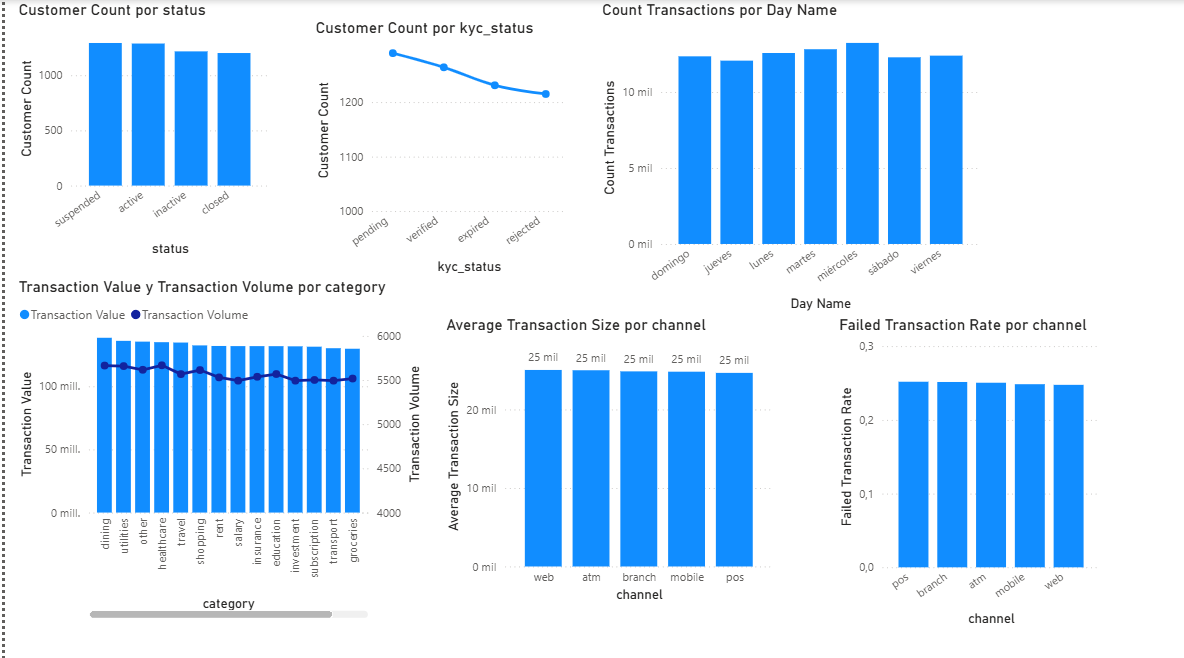

What the dashboard file says about the page in this screenshot:
{"tool":"powerbi","page":{"name":"Página 3","canvas":[1280,720],"ordinal":2},"visuals":[{"type":"clusteredColumnChart","fields":{"Y":["gold dim_customer.Customer Count"],"Category":["gold dim_customer.status"]},"box":[10,0,280,280],"z":0},{"type":"lineChart","fields":{"Y":["gold dim_customer.Customer Count"],"Category":["gold dim_customer.kyc_status"]},"box":[330.3,19.4,280.1,280.1],"z":1000},{"type":"lineStackedColumnComboChart","fields":{"Y":["gold fact_transactions.Transaction Value"],"Y2":["gold fact_transactions.Transaction Volume"],"Category":["gold fact_transactions.category"]},"box":[9.7,299.6,443.7,372.4],"z":2000},{"type":"clusteredColumnChart","fields":{"Y":["gold fact_transactions.Count Transactions"],"Category":["gold dim_dates.Dates Hierarchy.date_day","gold dim_dates.Dates Hierarchy.Month Name","gold dim_dates.Dates Hierarchy.Quarter Label","gold dim_dates.Dates Hierarchy.date_year","gold dim_dates.Dates Hierarchy.date_day_of_week","gold dim_dates.Dates Hierarchy.Day Name"]},"box":[639.6,0,417.8,340],"z":3000},{"type":"clusteredColumnChart","fields":{"Y":["gold fact_transactions.Average Transaction Size"],"Category":["gold fact_transactions.channel"]},"box":[471.2,340,362.7,314.1],"z":4000},{"type":"clusteredColumnChart","fields":{"Y":["gold fact_transactions.Failed Transaction Rate"],"Category":["gold fact_transactions.channel"]},"box":[895.4,340,291.5,340],"z":5000}]}

Visuals, with their boxes in screenshot pixels (x1, y1, x2, y2), scaled from the page's 1280x720 canvas onto the 1184x658 screenshot:
clusteredColumnChart - gold dim_customer.Customer Count x gold dim_customer.status: crop(9, 0, 268, 256)
lineChart - gold dim_customer.Customer Count x gold dim_customer.kyc_status: crop(306, 18, 565, 274)
lineStackedColumnComboChart - gold fact_transactions.Transaction Value x gold fact_transactions.Transaction Volume: crop(9, 274, 419, 614)
clusteredColumnChart - gold fact_transactions.Count Transactions x gold dim_dates.Dates Hierarchy.date_day: crop(592, 0, 978, 311)
clusteredColumnChart - gold fact_transactions.Average Transaction Size x gold fact_transactions.channel: crop(436, 311, 771, 598)
clusteredColumnChart - gold fact_transactions.Failed Transaction Rate x gold fact_transactions.channel: crop(828, 311, 1098, 621)
